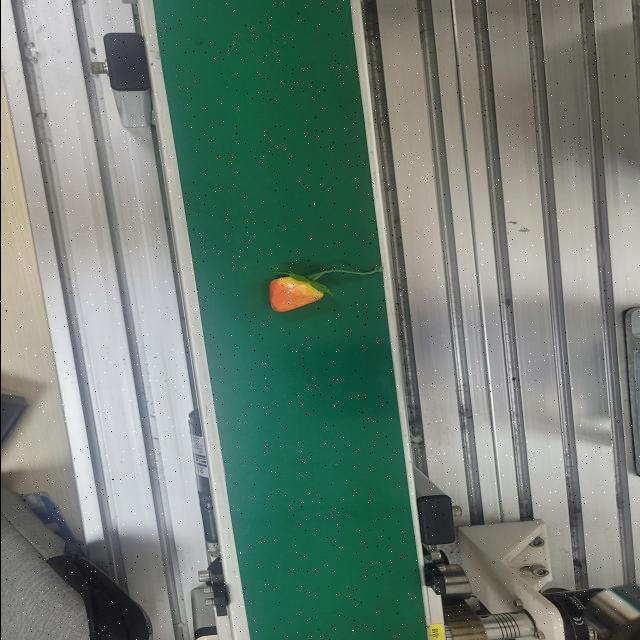Small Unripe Strawberry: (260, 272, 330, 314)
